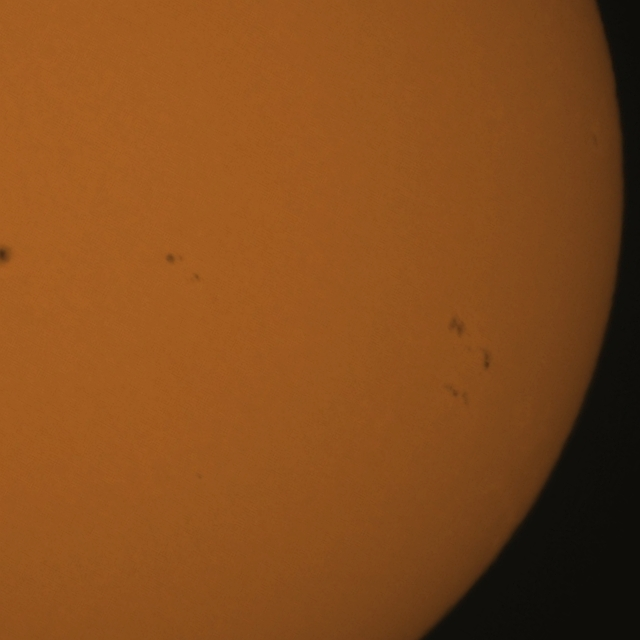sunspot: (447, 316, 471, 343), (444, 382, 468, 402), (0, 243, 12, 270), (164, 252, 184, 266), (480, 354, 492, 375), (192, 272, 202, 284)
